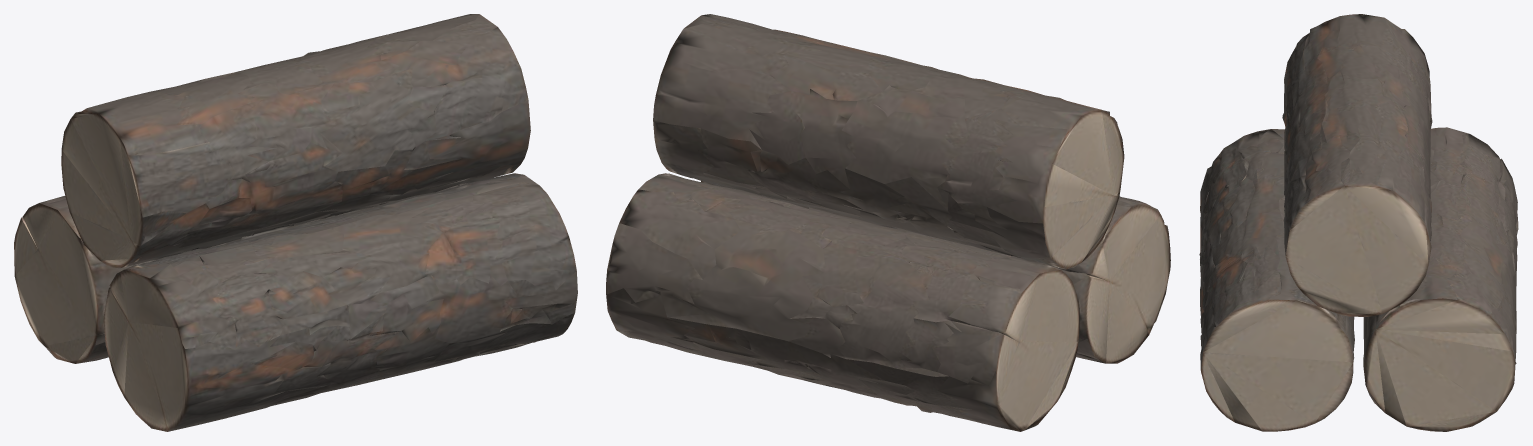
Rendered from log_pile.glb.
The picture shows the model from 3 angles, left to right: view 1: azimuth 30°, elevation 25°; view 2: azimuth 150°, elevation 25°; view 3: azimuth 270°, elevation 25°; orthographic projection. The views are drawn at different scales.
Visible parts, largest first — view 1: output_unwrapped; view 2: output_unwrapped; view 3: output_unwrapped.
Boxes of the visible parts, x1,y1,x2,y2 form: output_unwrapped: (14, 14, 577, 431); output_unwrapped: (606, 14, 1170, 431); output_unwrapped: (1199, 14, 1518, 431).
Size of the model in its own units: 1.9 by 1.3 by 1.51.
Materials: 1 (1 with a texture image).
